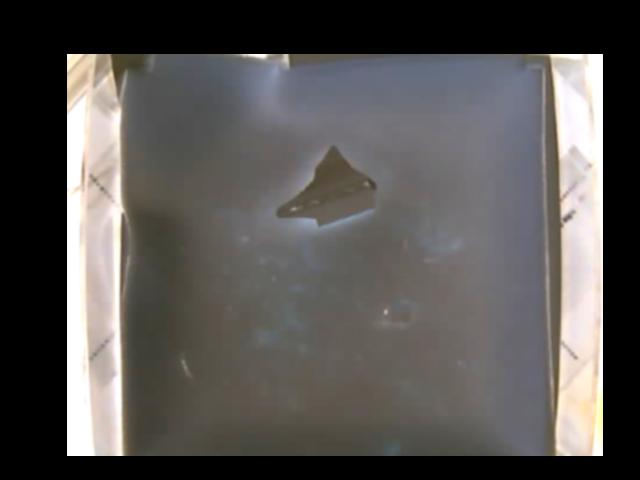China: (275, 146, 379, 229)
